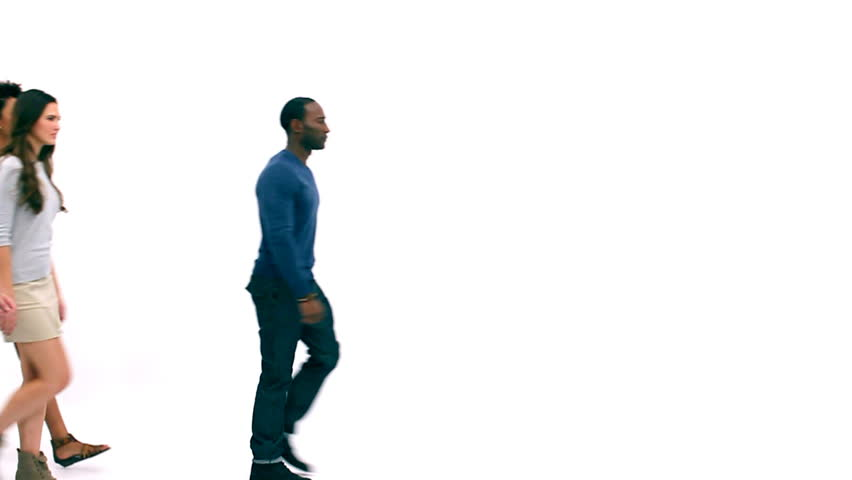person: (207, 63, 353, 480), (1, 75, 129, 477)
